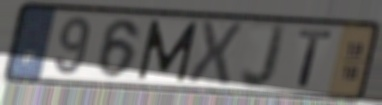6: (97, 17, 144, 80)
9: (52, 15, 92, 77)
J: (238, 21, 290, 92)
M: (135, 17, 201, 83)
T: (296, 28, 336, 90)
X: (184, 18, 246, 87)
